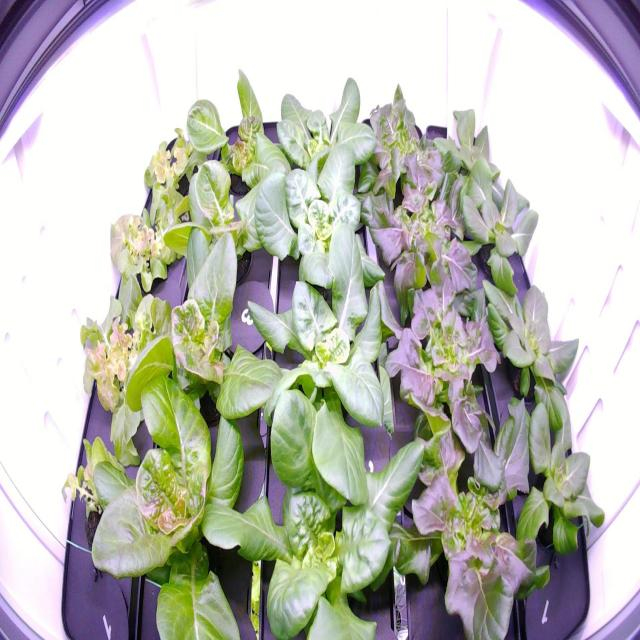young: (207, 373, 434, 640), (86, 362, 280, 639), (230, 210, 404, 451), (120, 212, 289, 449), (249, 132, 397, 302), (157, 136, 289, 314), (493, 382, 611, 568), (180, 49, 293, 220), (474, 261, 584, 422), (267, 50, 378, 196), (448, 161, 546, 306), (424, 100, 504, 202)
